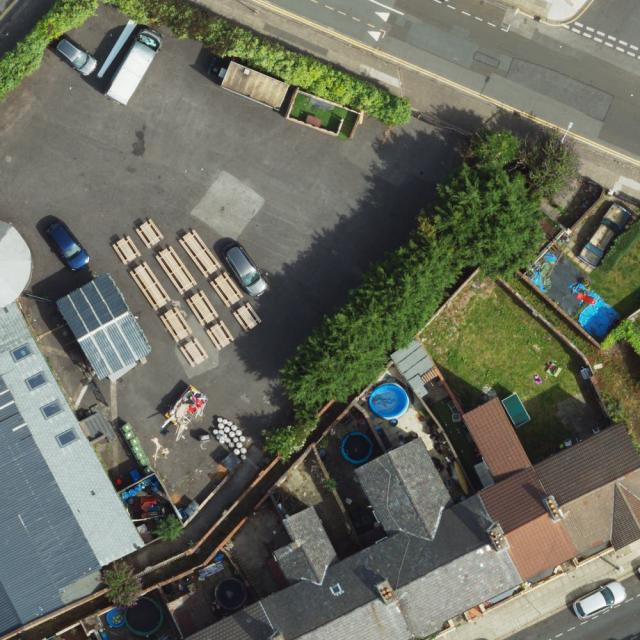roof: (179, 395, 640, 640), (0, 219, 145, 634)
skylight: (24, 368, 51, 394), (39, 397, 66, 419), (55, 426, 79, 449), (10, 341, 34, 364), (329, 580, 346, 597)
